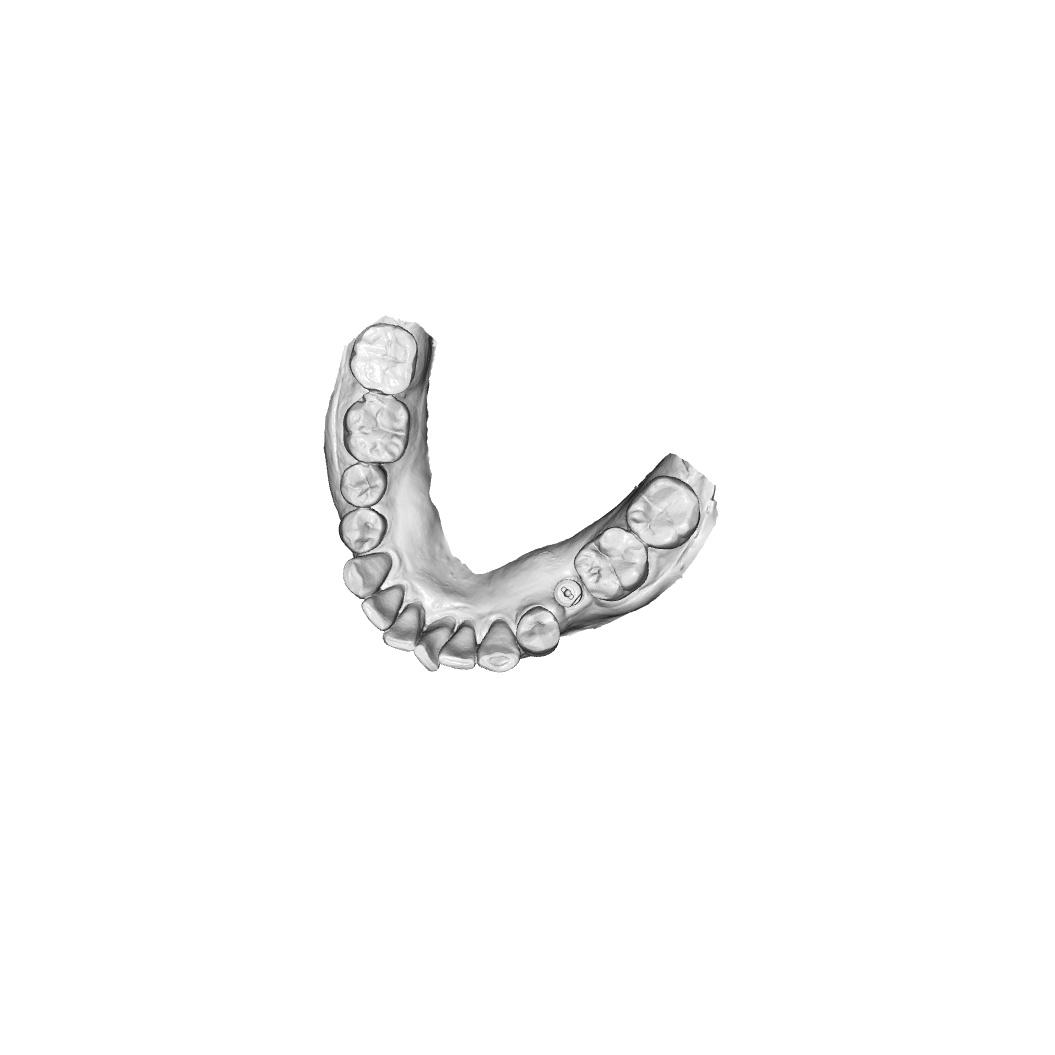canine: (476, 618, 523, 674), (342, 552, 393, 600)
implant_minus: (553, 578, 583, 608)
incisor: (361, 585, 405, 631), (382, 605, 422, 653), (437, 623, 477, 671), (413, 625, 452, 673)
molar: (572, 526, 650, 602), (625, 475, 701, 550), (348, 322, 419, 396), (343, 392, 411, 464)
premolar: (337, 507, 389, 555), (515, 605, 561, 658), (339, 462, 388, 507)
